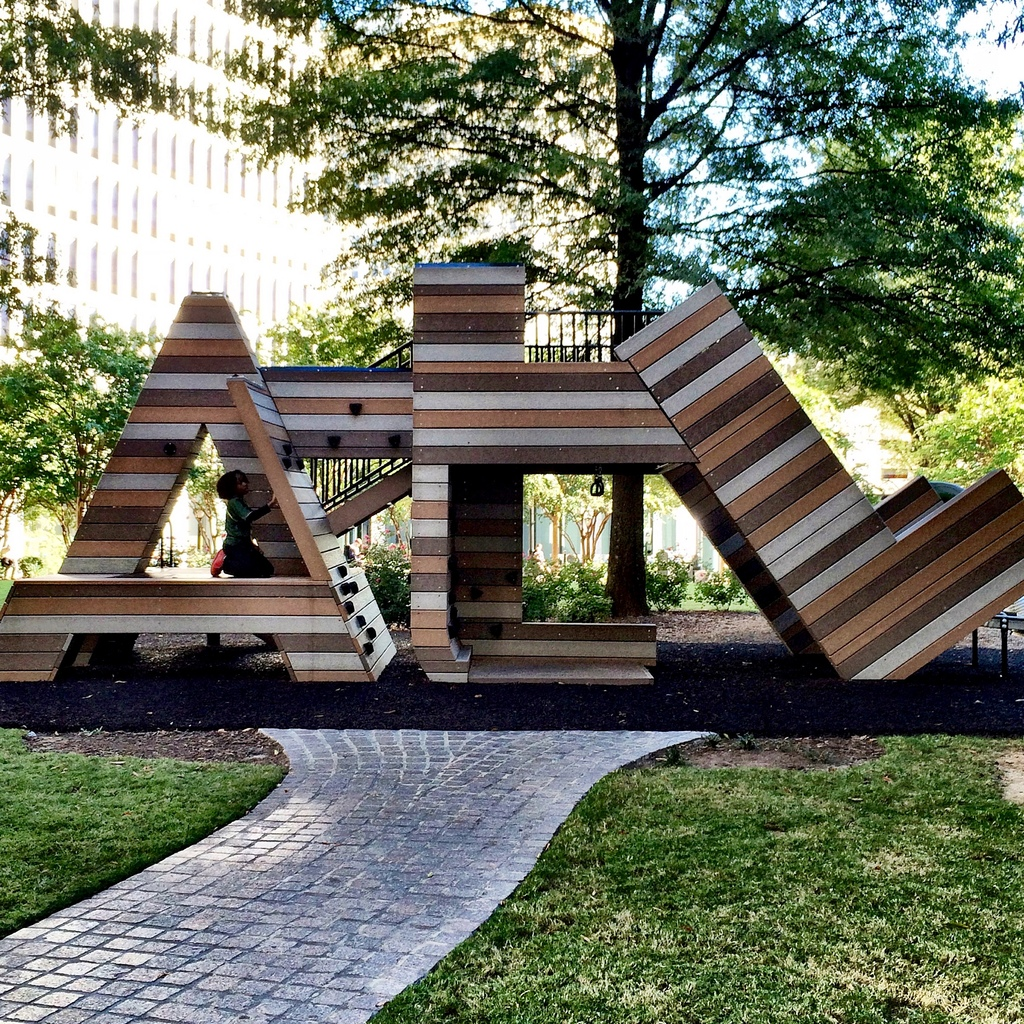person: (209, 467, 280, 578)
